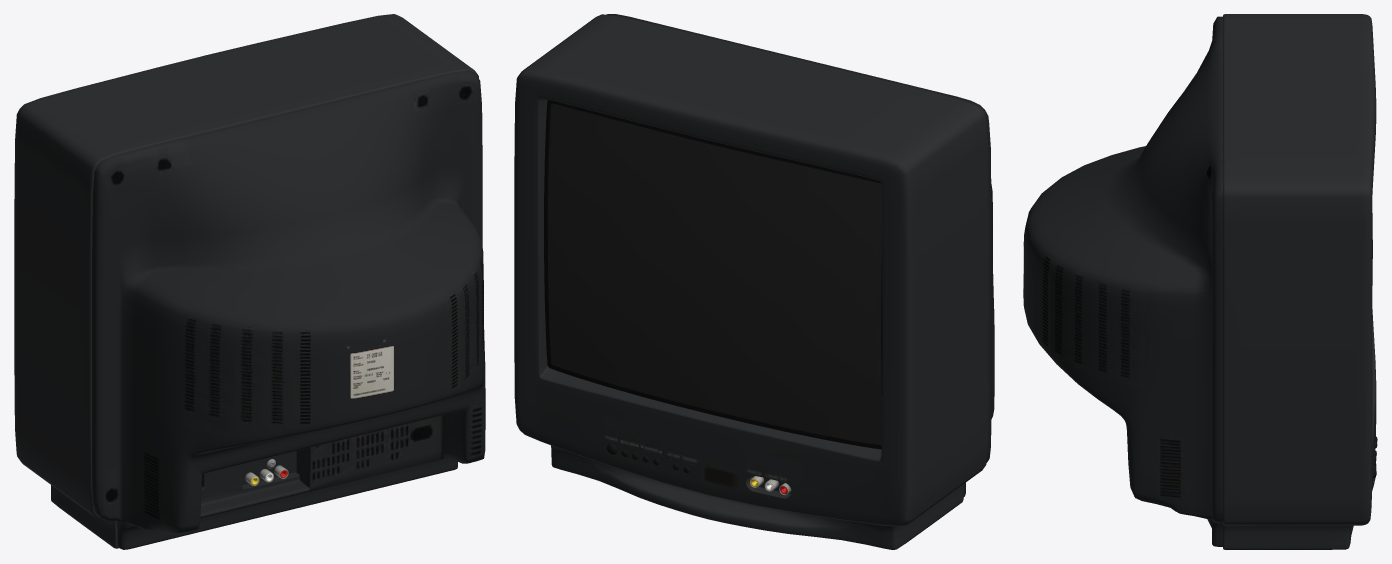
Rendered from crt-opt.glb.
3 renders of one model, left to right at view 1: azimuth 30°, elevation 25°; view 2: azimuth 150°, elevation 25°; view 3: azimuth 270°, elevation 25°, orthographic. The views are drawn at different scales.
Visible parts, largest first — view 1: defaultMaterial, defaultMaterial_1; view 2: defaultMaterial_1, defaultMaterial_3, defaultMaterial; view 3: defaultMaterial_1, defaultMaterial.
Boxes of the visible parts, left/top/right/bottom form: defaultMaterial: left=92, top=71, right=485, bottom=549; defaultMaterial_1: left=14, top=14, right=478, bottom=548; defaultMaterial_1: left=514, top=14, right=988, bottom=549; defaultMaterial_3: left=544, top=99, right=882, bottom=449; defaultMaterial: left=606, top=14, right=994, bottom=496; defaultMaterial_1: left=1223, top=14, right=1377, bottom=549; defaultMaterial: left=1023, top=16, right=1222, bottom=546.
Bounding box in the file's own units: 0.468 × 0.4523 × 0.387.
3 materials, 3 textured.
